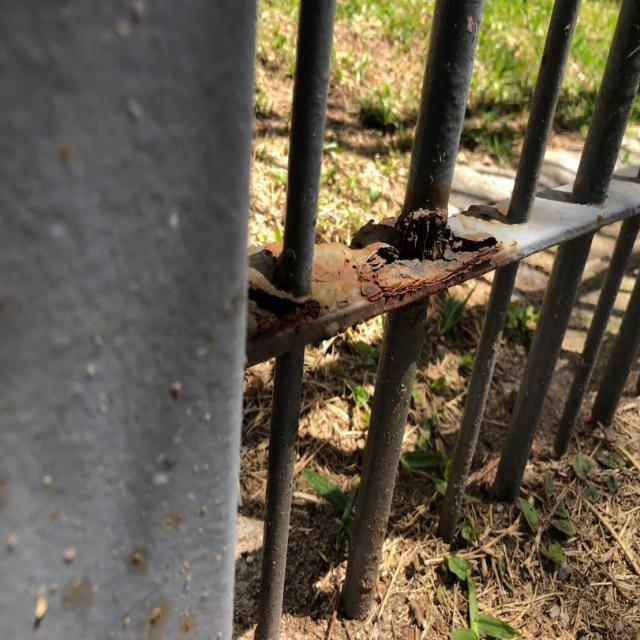Corrosion: (245, 204, 511, 360)
